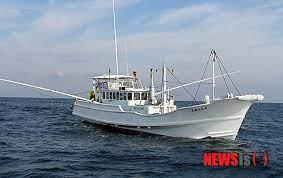Ship: (70, 44, 270, 150)
